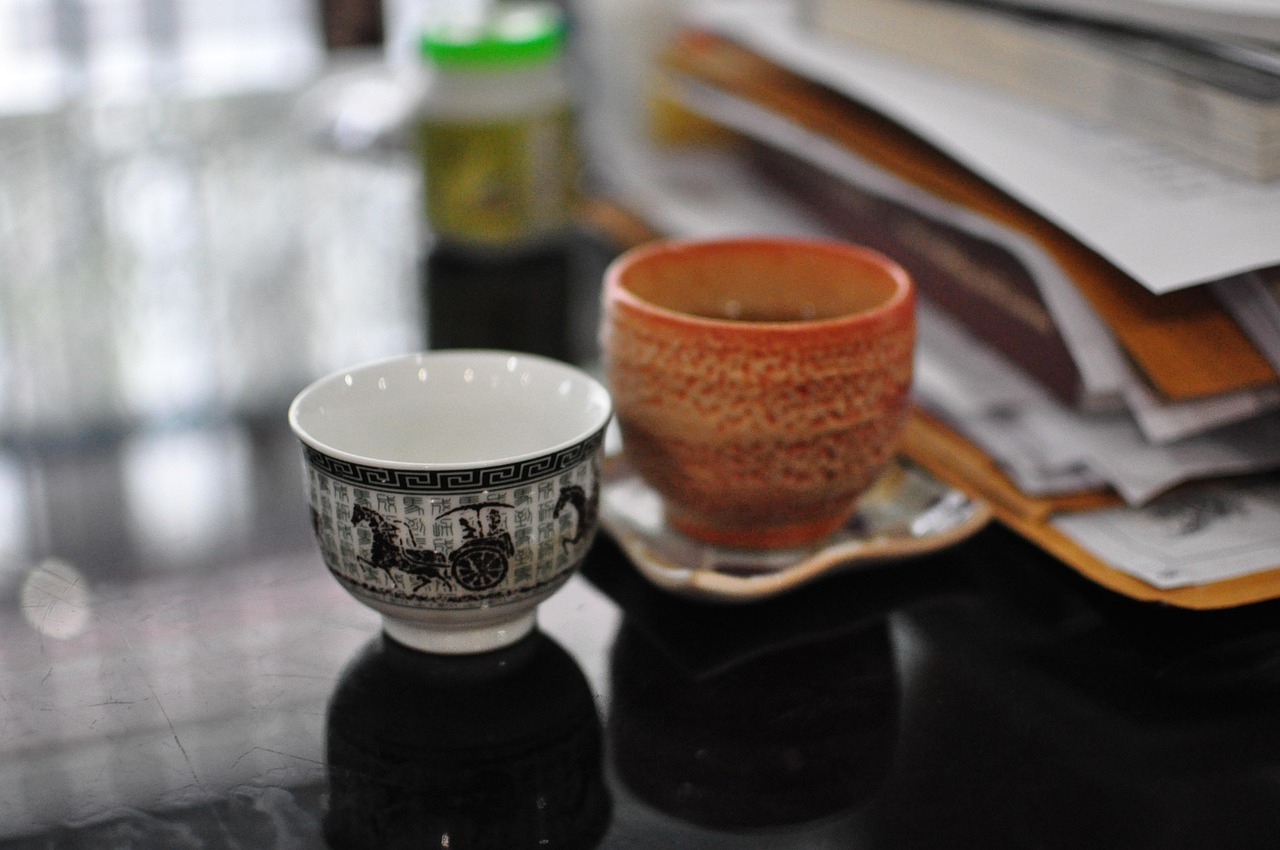mug: (601, 218, 936, 565)
